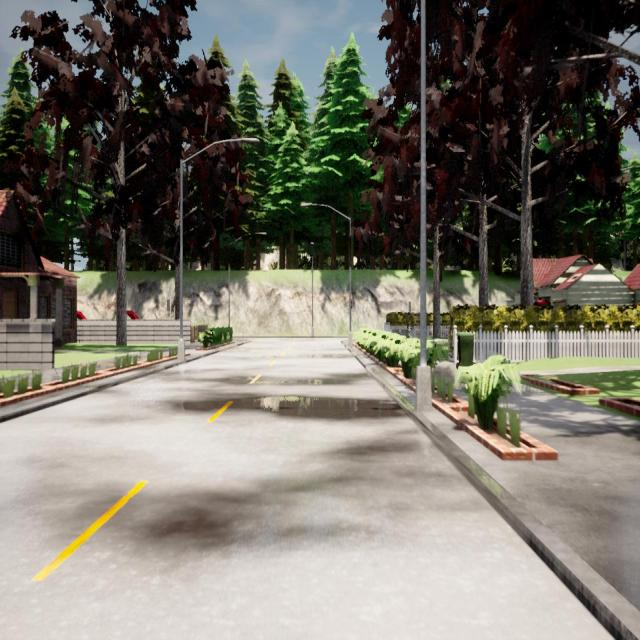traffic_light: (349, 295, 354, 309)
